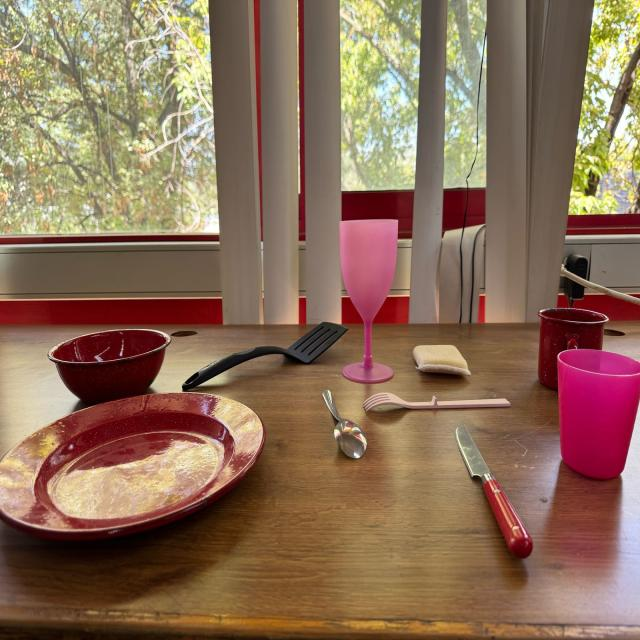fork: (366, 391, 508, 413)
glass: (555, 349, 639, 478), (536, 307, 608, 390)
knife: (452, 423, 533, 556)
plate: (0, 389, 269, 541)
spatula: (179, 317, 354, 391)
sponge: (413, 344, 471, 376)
spoon: (323, 386, 370, 462)
tazon: (45, 327, 174, 405)
wineglass: (340, 220, 399, 385)
